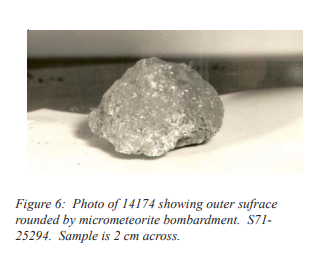Breccia: (71, 35, 230, 166)
